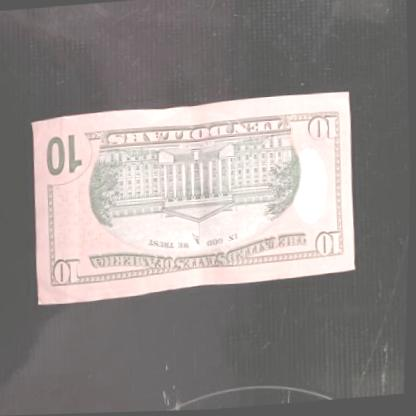dollar_back: (27, 90, 362, 307)
